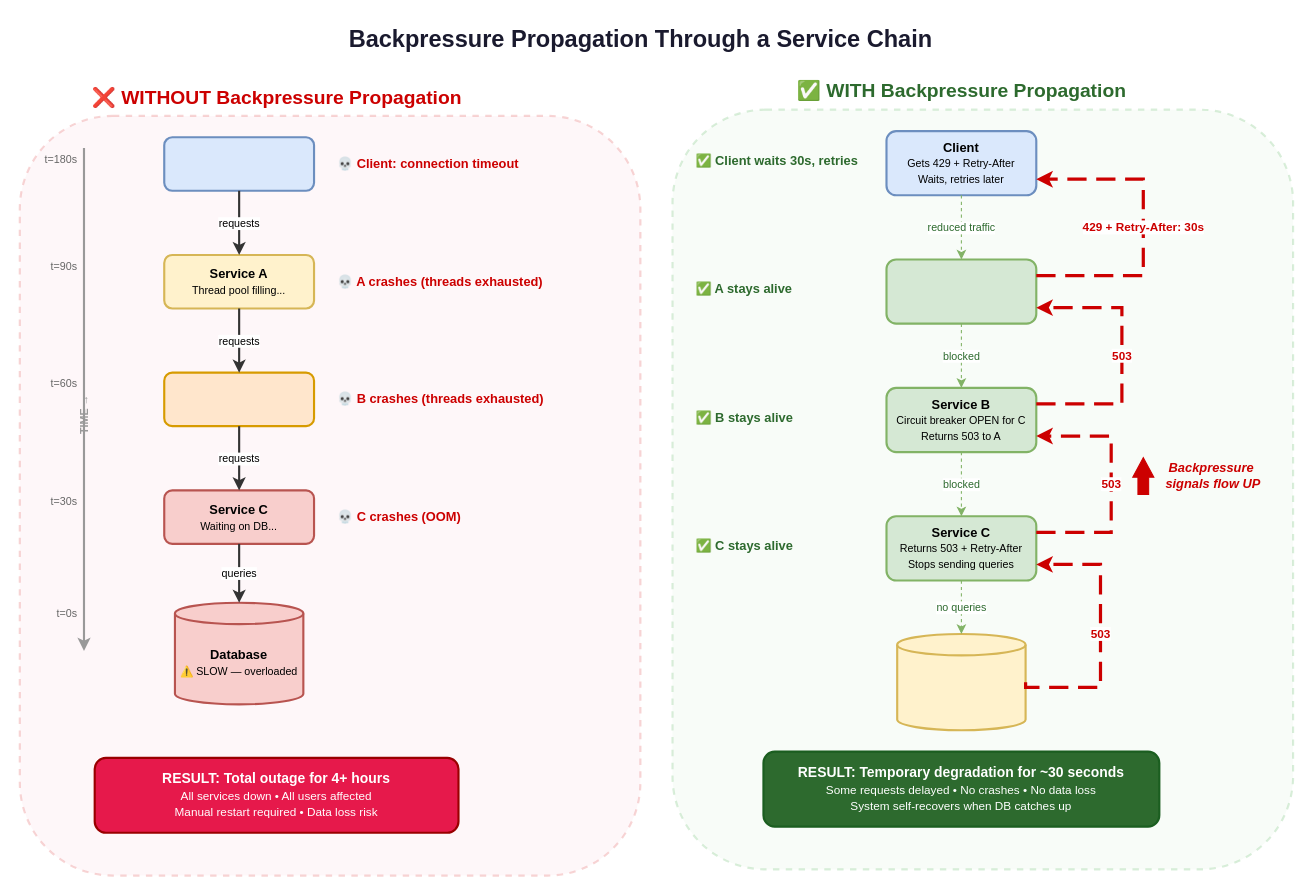
The diagram is 1312 pixels wide and 895 high, and some of its shapes have lost their labels. The centre of each missing label's shape, as x and y in pixels:
Client Sends requests: point (239, 163)
Database ⚠️ SLOW — but recovering (load reduced): point (961, 681)
Service A Circuit breaker OPEN for B Returns 503 to client: point (961, 291)
Service B Thread pool filling...: point (239, 399)
